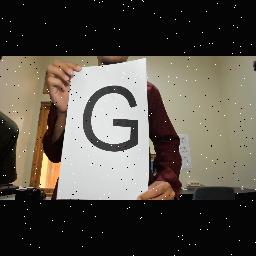g: (80, 82, 144, 156)
